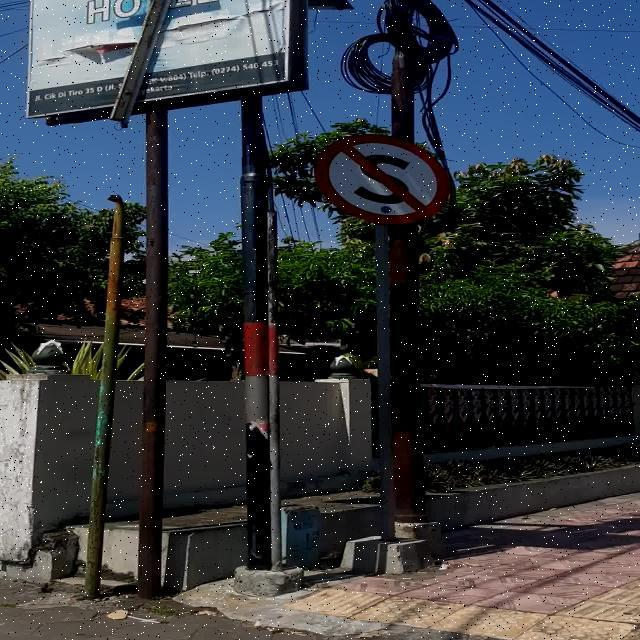Dilarang Berhenti: (314, 135, 450, 224)
